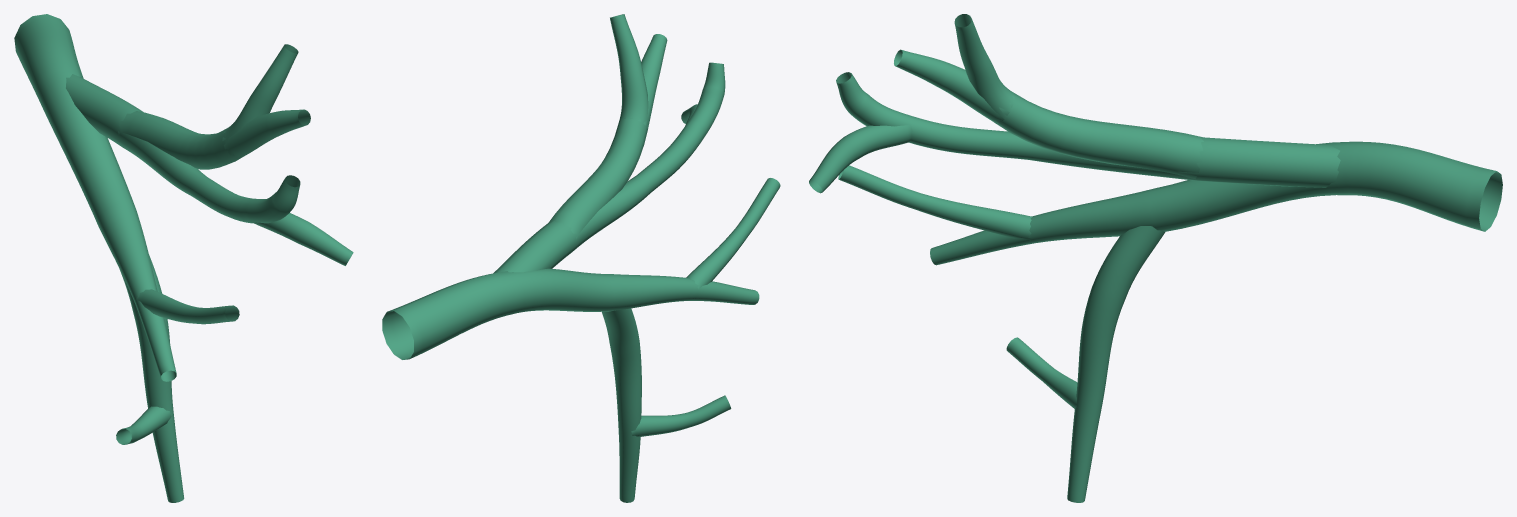
3 renders of one model, left to right at view 1: azimuth 30°, elevation 25°; view 2: azimuth 150°, elevation 25°; view 3: azimuth 270°, elevation 25°, orthographic. The views are drawn at different scales.
Parts seen in each view (by area): view 1: 右肺尖段支气管（第1段）; view 2: 右肺尖段支气管（第1段）; view 3: 右肺尖段支气管（第1段）.
Part boxes in pixels (left/top/right/bottom): 右肺尖段支气管（第1段）: left=14, top=14, right=353, bottom=502; 右肺尖段支气管（第1段）: left=382, top=14, right=780, bottom=502; 右肺尖段支气管（第1段）: left=809, top=14, right=1502, bottom=502.
Size of the model in its own units: 0.0345 by 0.0942 by 0.1144.
